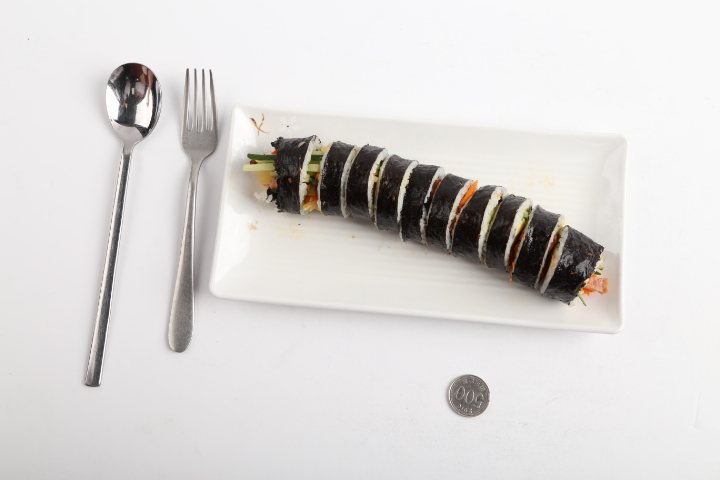dish: (209, 106, 624, 335)
ref_coin: (448, 374, 490, 417)
ref_fork: (181, 68, 218, 161)
ref_spoon: (105, 62, 162, 149)
김밥: (265, 135, 602, 303)
